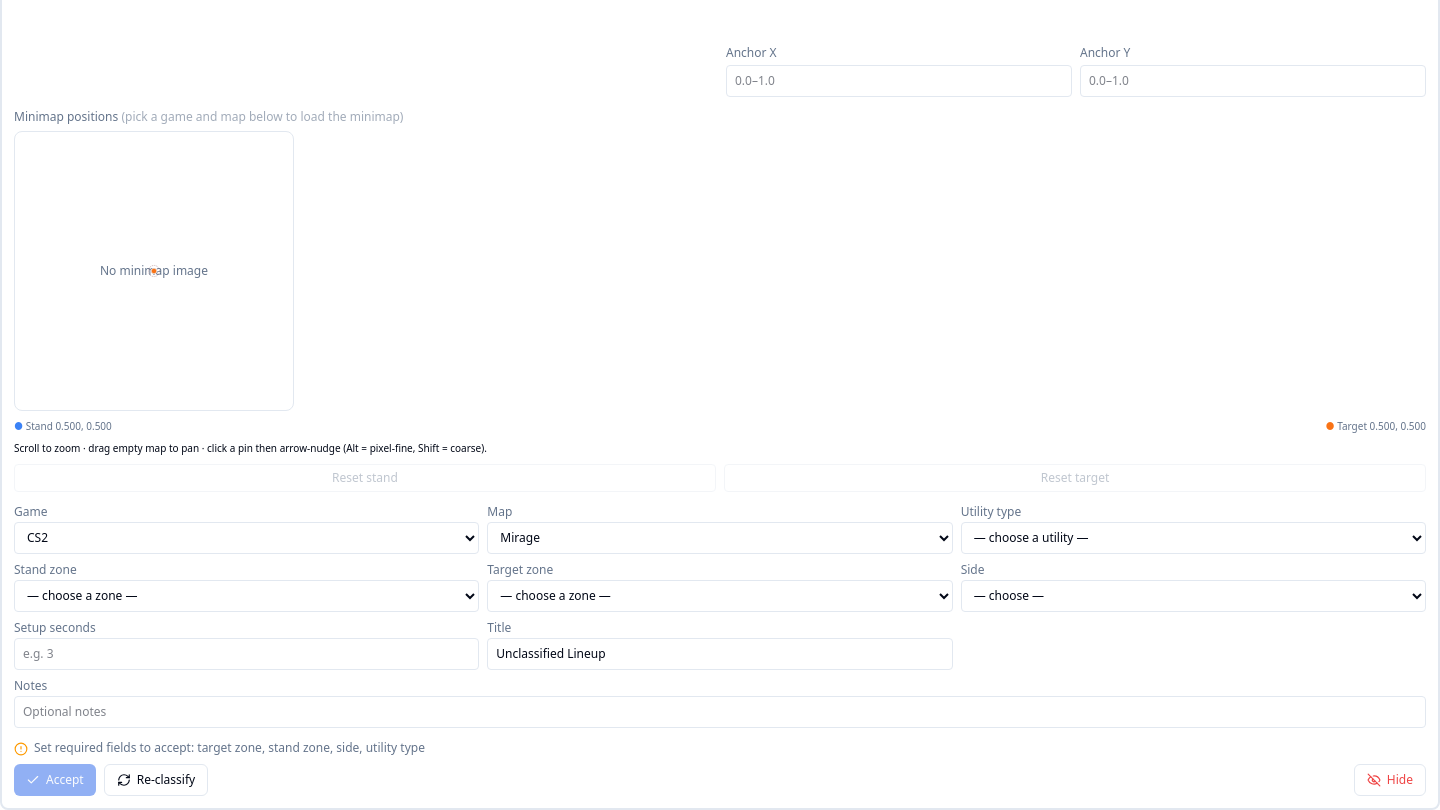
Test: ReviewCard — Re-classify repopulates selects › repopulates game/map/zone/utility/side after successful Re-classify
This screenshot has width=1440, height=810.
(page scrolled)
Expected: the button "Accept" is disabled, [14,764,96,796]
Click the button "Re-classify". click: (156, 780)
box: [104,764,208,796]
(page scrolled)
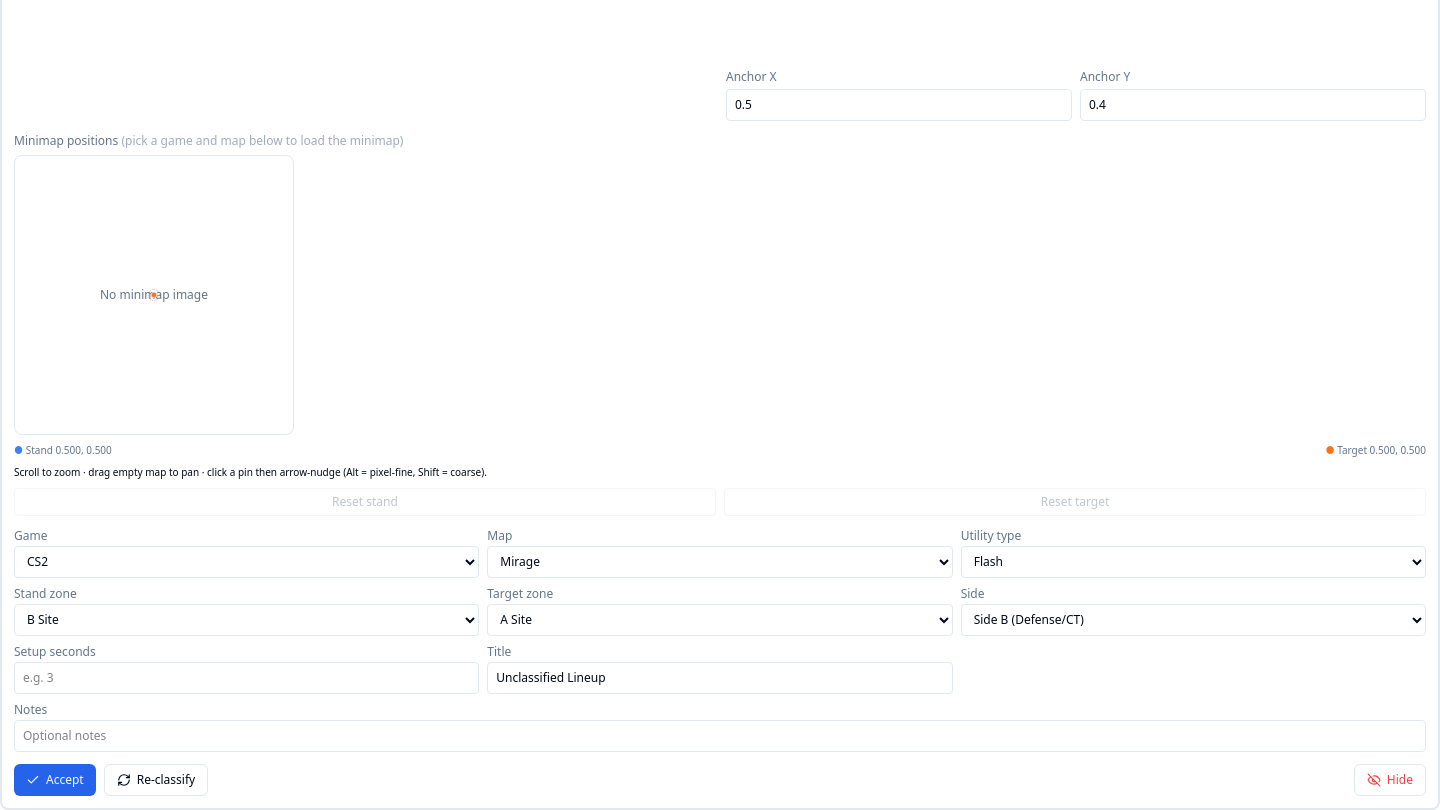
Result: the dropdown labelled "Utility type" shows "Flash" at [961,546,1426,578]
Result: the dropdown labelled "Stand zone" shows "B Site" at [14,604,479,636]
Result: the dropdown labelled "Target zone" shows "A Site" at [487,604,953,636]
